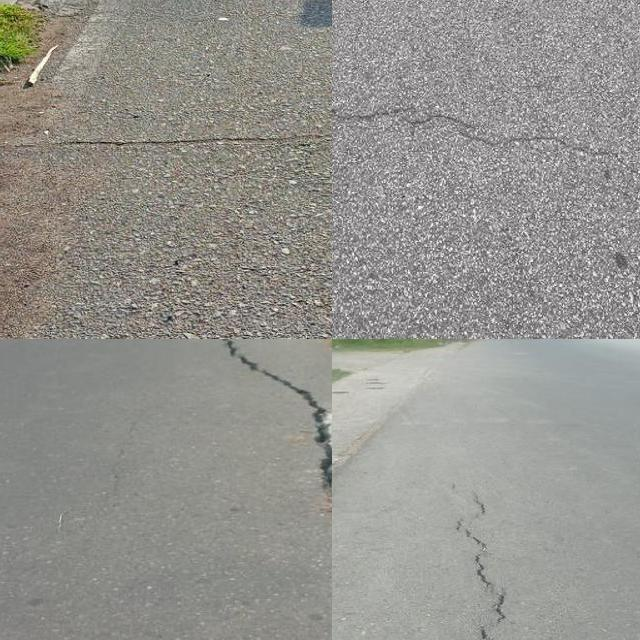Melintang: (332, 96, 640, 197), (0, 124, 332, 159)
Memanjang: (220, 339, 332, 519), (451, 487, 520, 640)
